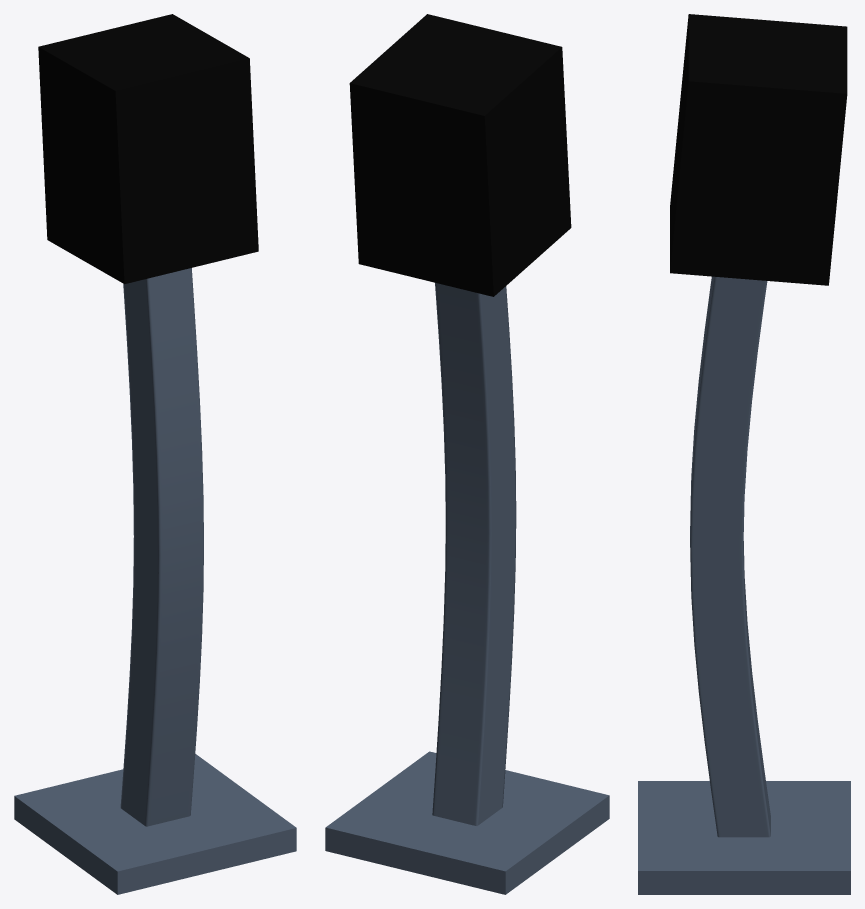
3 renders of one model, left to right at view 1: azimuth 30°, elevation 25°; view 2: azimuth 150°, elevation 25°; view 3: azimuth 270°, elevation 25°, orthographic. The views are drawn at different scales.
Visible parts, largest first — view 1: pedestal; view 2: pedestal; view 3: pedestal.
Boxes of the visible parts, x1,y1,x2,y2 form: pedestal: (14, 14, 296, 894); pedestal: (325, 14, 609, 894); pedestal: (638, 14, 850, 894).
Size of the model in its own units: 0.9607 by 4 by 0.9607.
